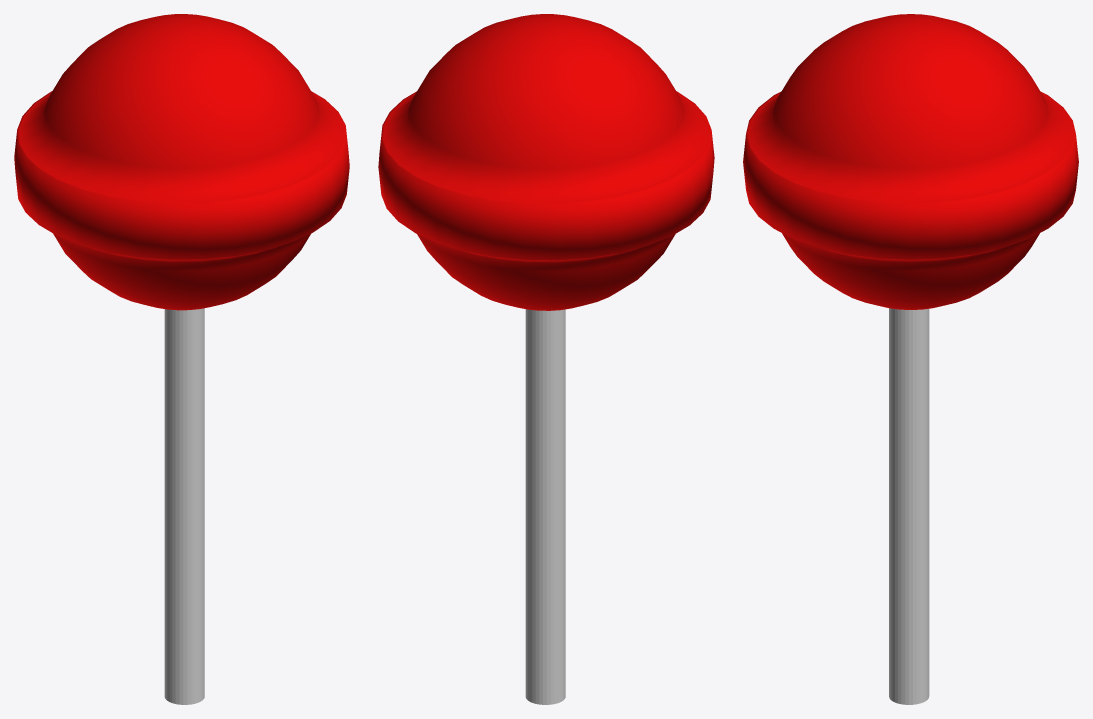
Rendered from ChupaChups 1.glb.
3 renders of one model, left to right at view 1: azimuth 30°, elevation 25°; view 2: azimuth 150°, elevation 25°; view 3: azimuth 270°, elevation 25°, orthographic.
Parts seen in each view (by area): view 1: Sphere, Cylinder; view 2: Sphere, Cylinder; view 3: Sphere, Cylinder.
Boxes of the visible parts, box(x1,y1,x2,y2) form: Sphere: box(14, 14, 349, 310); Cylinder: box(164, 308, 204, 704); Sphere: box(378, 14, 714, 310); Cylinder: box(525, 309, 565, 704); Sphere: box(743, 14, 1078, 309); Cylinder: box(889, 308, 929, 704).
Bounding box in the file's own units: 2.27 × 4.97 × 2.27.
